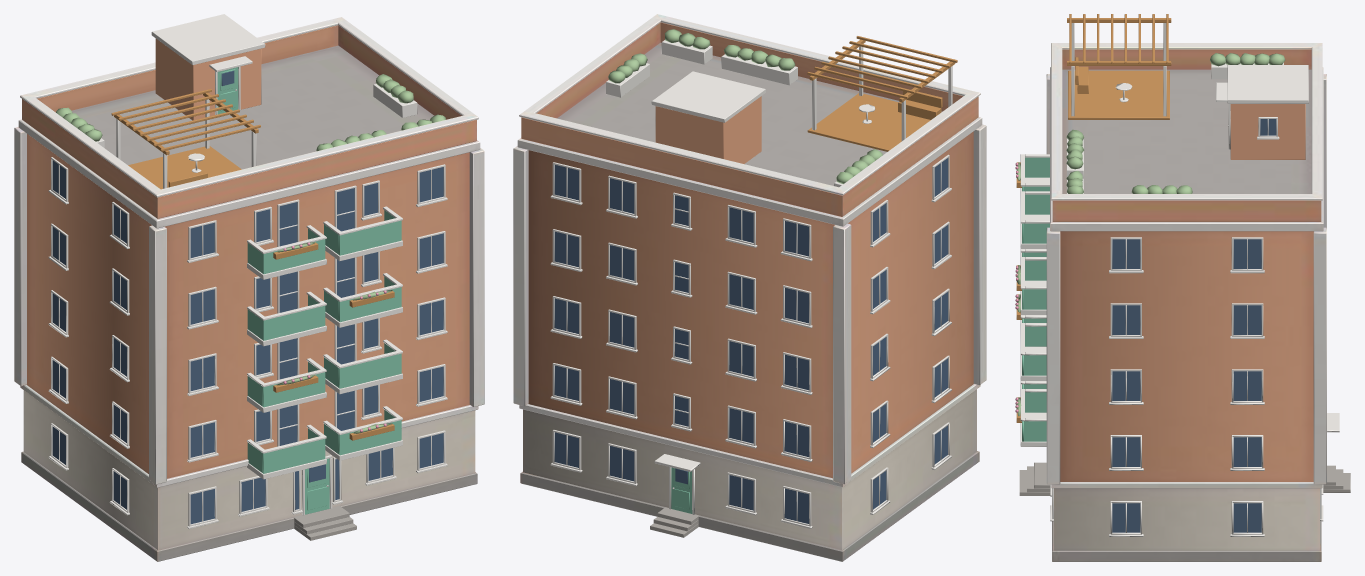
File: apartment-building.glb
The picture shows the model from 3 angles, left to right: view 1: azimuth 30°, elevation 25°; view 2: azimuth 150°, elevation 25°; view 3: azimuth 270°, elevation 25°; orthographic projection.
Parts seen in each view (by area): view 1: apartment-building_body, apartment-building_details, apartment-building_roof_terrace, apartment-building_shrubs; view 2: apartment-building_body, apartment-building_details, apartment-building_roof_terrace, apartment-building_shrubs; view 3: apartment-building_body, apartment-building_details, apartment-building_roof_terrace, apartment-building_shrubs.
Part boxes in pixels (x1,y1,x2,y2): apartment-building_body: (14,17,484,561); apartment-building_details: (48,14,447,540); apartment-building_roof_terrace: (155,38,261,120); apartment-building_shrubs: (56,74,445,433); apartment-building_body: (513,14,986,561); apartment-building_details: (550,36,957,537); apartment-building_roof_terrace: (655,96,761,163); apartment-building_shrubs: (608,29,882,183); apartment-building_body: (1046,43,1326,561); apartment-building_details: (1015,14,1350,536); apartment-building_roof_terrace: (1230,104,1305,159); apartment-building_shrubs: (1016,53,1285,416).
Size of the model in its own units: 15.56 by 18.3 by 13.83.
9 materials, 1 textured.
